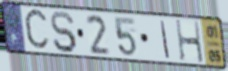2: (84, 13, 112, 55)
5: (112, 16, 139, 58)
C: (23, 7, 52, 53)
H: (174, 19, 205, 65)
I: (159, 19, 171, 60)
S: (49, 10, 78, 55)
